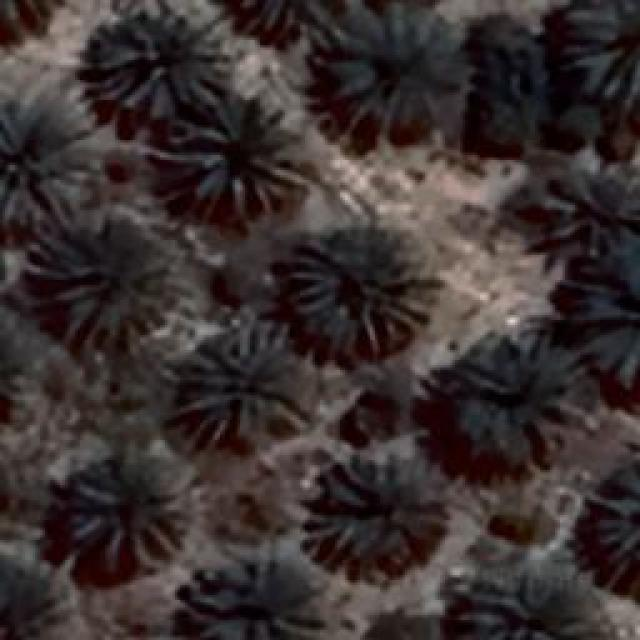PalmTree: (415, 330, 580, 485), (314, 0, 467, 132), (32, 215, 180, 343), (318, 444, 450, 568), (180, 318, 305, 448), (285, 242, 433, 348), (82, 10, 228, 115), (175, 92, 303, 210), (458, 12, 552, 156), (65, 457, 190, 565), (0, 80, 88, 222), (442, 556, 590, 639), (180, 555, 320, 635), (540, 157, 635, 255), (578, 255, 638, 390), (560, 0, 637, 102), (590, 465, 638, 590), (1, 545, 64, 635), (209, 1, 309, 51), (0, 312, 37, 426), (0, 0, 68, 52)
